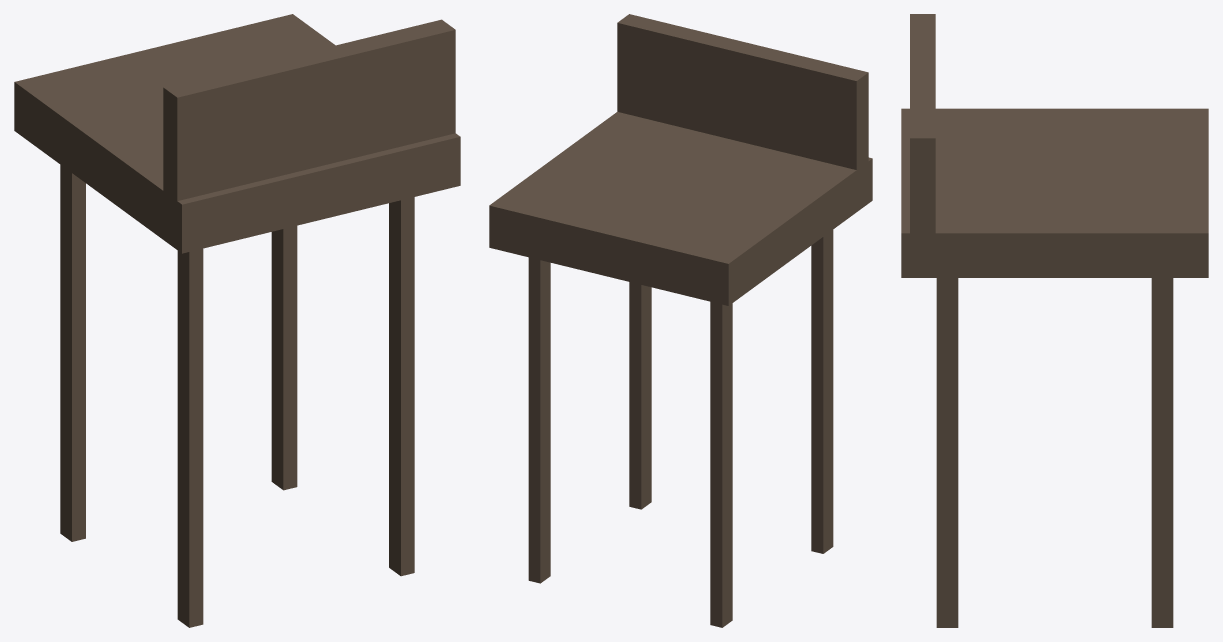
File: P016-blockout-v1.glb
3 renders of one model, left to right at view 1: azimuth 30°, elevation 25°; view 2: azimuth 150°, elevation 25°; view 3: azimuth 270°, elevation 25°, orthographic. The views are drawn at different scales.
Visible parts, largest first — view 1: 椅面, 支腳 (×4), 椅背; view 2: 椅面, 支腳 (×4), 椅背; view 3: 椅面, 支腳 (×2), 椅背.
Part boxes in pixels (bbox=[...]): 椅面: bbox=[14, 14, 460, 253]; 支腳 (×4): bbox=[60, 165, 414, 627]; 椅背: bbox=[163, 19, 455, 227]; 椅面: bbox=[489, 112, 872, 305]; 支腳 (×4): bbox=[528, 230, 833, 627]; 椅背: bbox=[617, 14, 868, 197]; 椅面: bbox=[901, 108, 1208, 277]; 支腳 (×2): bbox=[936, 278, 1173, 627]; 椅背: bbox=[910, 14, 935, 262].
Bounding box in the file's own units: 0.46 × 0.8643 × 0.48.
